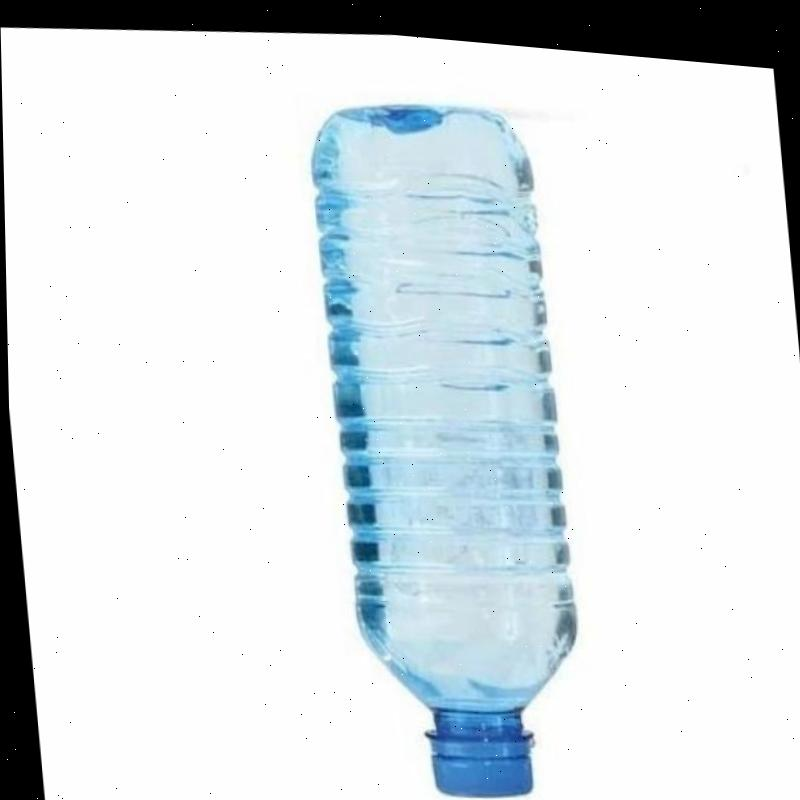botella: (305, 83, 588, 800)
